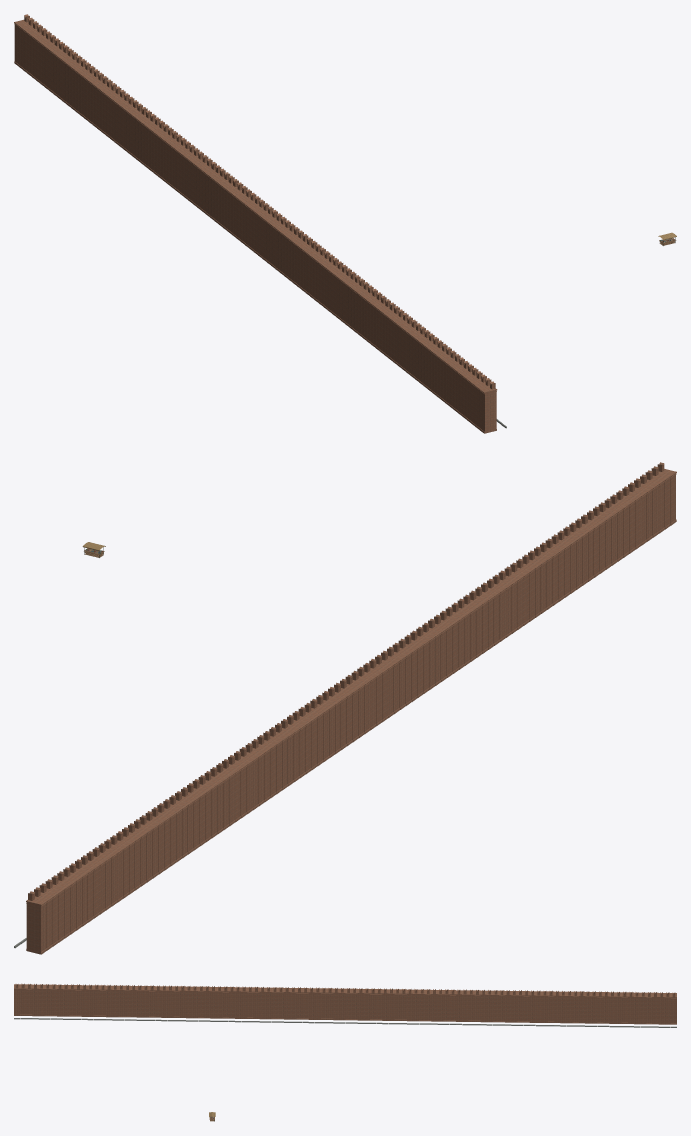
The model's file is world-detail.glb.
3 views of the same model, one above another, from view 1: azimuth 30°, elevation 25°; view 2: azimuth 150°, elevation 25°; view 3: azimuth 270°, elevation 25° (orthographic). The views are drawn at different scales.
Visible parts, largest first — view 1: World | Kremlin wall replacement / World | weathered red bri; view 2: World | Kremlin wall replacement / World | weathered red bri; view 3: World | Kremlin wall replacement / World | weathered red bri, World | Kremlin wall replacement / World | coping stone.
Boxes of the visible parts, bbox=[...] form: World | Kremlin wall replacement / World | weathered red bri: bbox=[14, 14, 497, 433]; World | Kremlin wall replacement / World | weathered red bri: bbox=[26, 462, 676, 954]; World | Kremlin wall replacement / World | weathered red bri: bbox=[14, 983, 676, 1024]; World | Kremlin wall replacement / World | coping stone: bbox=[14, 1018, 676, 1027].
Bounding box in the file's own units: 122 × 16.1 × 309.
Materials: 15 (1 with a texture image).
